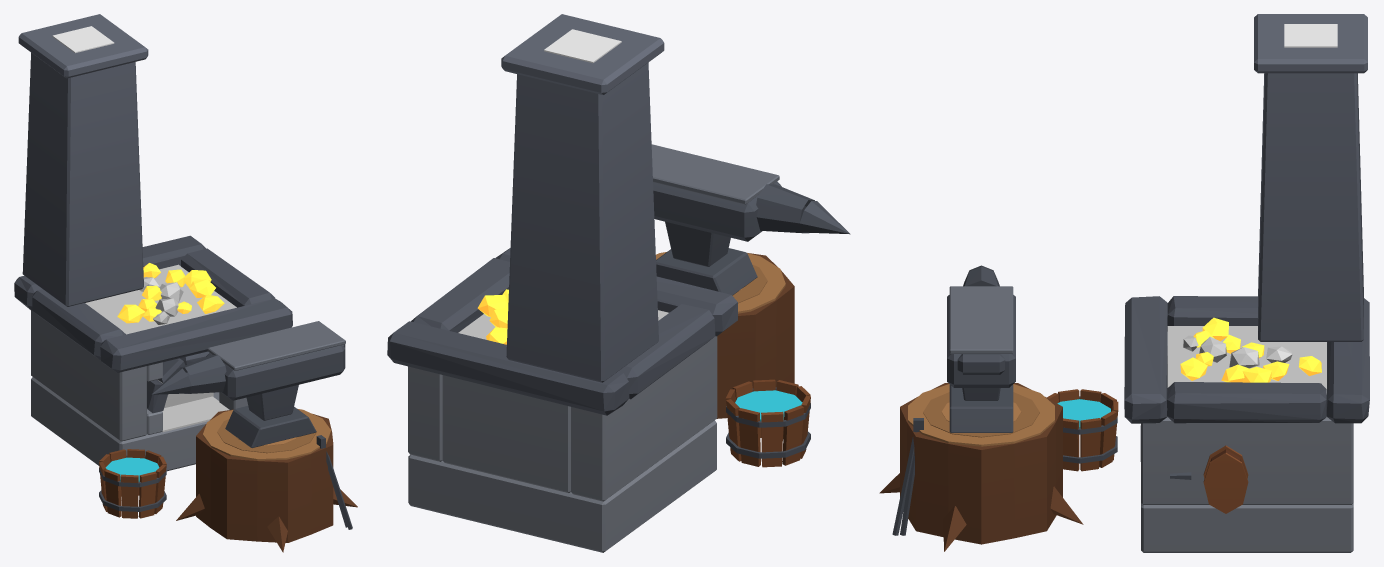
The model's file is anvil_forge.fbx.
The picture shows the model from 3 angles, left to right: view 1: azimuth 30°, elevation 25°; view 2: azimuth 150°, elevation 25°; view 3: azimuth 270°, elevation 25°; orthographic projection. The views are drawn at different scales.
Parts seen in each view (by area): view 1: anvil_forge_Upper, anvil_forge_Hearth, anvil_forge_Stump, anvil_forge_Anvil, anvil_forge_AnvilFace, anvil_forge_Coal, anvil_forge_Wood, anvil_forge_StumpTop, anvil_forge_Soot, anvil_forge_Coals_Glow, anvil_forge_Water; view 2: anvil_forge_Upper, anvil_forge_Hearth, anvil_forge_Anvil, anvil_forge_Stump, anvil_forge_Wood, anvil_forge_AnvilFace, anvil_forge_StumpTop, anvil_forge_Soot, anvil_forge_Water, anvil_forge_Coals_Glow, anvil_forge_Coal; view 3: anvil_forge_Upper, anvil_forge_Hearth, anvil_forge_Stump, anvil_forge_Anvil, anvil_forge_Coal, anvil_forge_Wood, anvil_forge_AnvilFace, anvil_forge_StumpTop, anvil_forge_Coals_Glow, anvil_forge_Soot, anvil_forge_Water.
Part boxes in pixels (x1,y1,x2,y2): anvil_forge_Upper: [14, 14, 292, 413]; anvil_forge_Hearth: [31, 310, 248, 471]; anvil_forge_Stump: [176, 409, 357, 552]; anvil_forge_Anvil: [99, 344, 352, 529]; anvil_forge_AnvilFace: [207, 321, 345, 370]; anvil_forge_Coal: [85, 264, 236, 334]; anvil_forge_Wood: [99, 449, 166, 518]; anvil_forge_StumpTop: [203, 409, 331, 460]; anvil_forge_Soot: [52, 26, 229, 432]; anvil_forge_Coals_Glow: [117, 263, 224, 323]; anvil_forge_Water: [105, 457, 159, 481]; anvil_forge_Upper: [387, 14, 737, 415]; anvil_forge_Hearth: [408, 336, 717, 552]; anvil_forge_Anvil: [653, 181, 850, 458]; anvil_forge_Stump: [717, 253, 794, 418]; anvil_forge_Wood: [725, 379, 810, 467]; anvil_forge_AnvilFace: [651, 144, 779, 204]; anvil_forge_StumpTop: [656, 252, 785, 313]; anvil_forge_Soot: [544, 29, 621, 63]; anvil_forge_Water: [735, 390, 802, 421]; anvil_forge_Coals_Glow: [477, 289, 508, 344]; anvil_forge_Coal: [458, 310, 668, 339]; anvil_forge_Upper: [1124, 14, 1369, 461]; anvil_forge_Hearth: [1141, 332, 1353, 552]; anvil_forge_Stump: [879, 383, 1083, 551]; anvil_forge_Anvil: [892, 265, 1191, 535]; anvil_forge_Coal: [1167, 326, 1326, 394]; anvil_forge_Wood: [1047, 389, 1248, 513]; anvil_forge_AnvilFace: [949, 286, 1013, 353]; anvil_forge_StumpTop: [908, 384, 1054, 446]; anvil_forge_Coals_Glow: [1180, 317, 1321, 382]; anvil_forge_Soot: [1284, 24, 1337, 47]; anvil_forge_Water: [1057, 399, 1110, 428].
Bounding box in the file's own units: 5.57 × 9.33 × 9.23.
